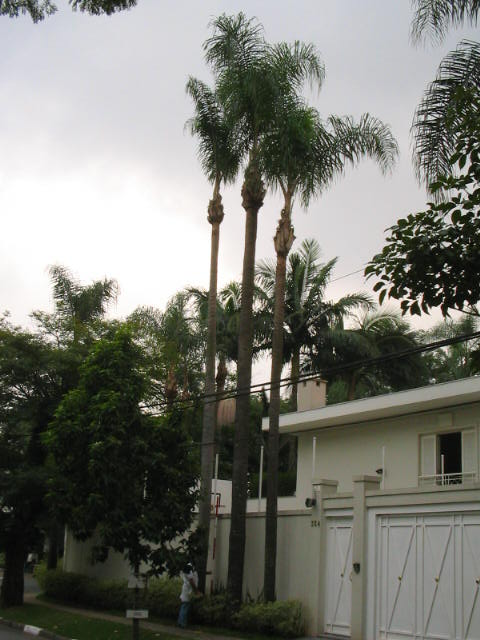crown: (4, 311, 193, 547), (211, 19, 325, 201), (264, 110, 398, 223), (186, 13, 248, 191)
stem: (182, 225, 226, 624), (223, 215, 260, 624), (259, 260, 291, 629), (2, 533, 34, 608)
stick: (209, 497, 221, 623)
tree: (262, 110, 402, 630), (210, 19, 326, 624), (2, 309, 195, 609), (179, 9, 248, 626)
